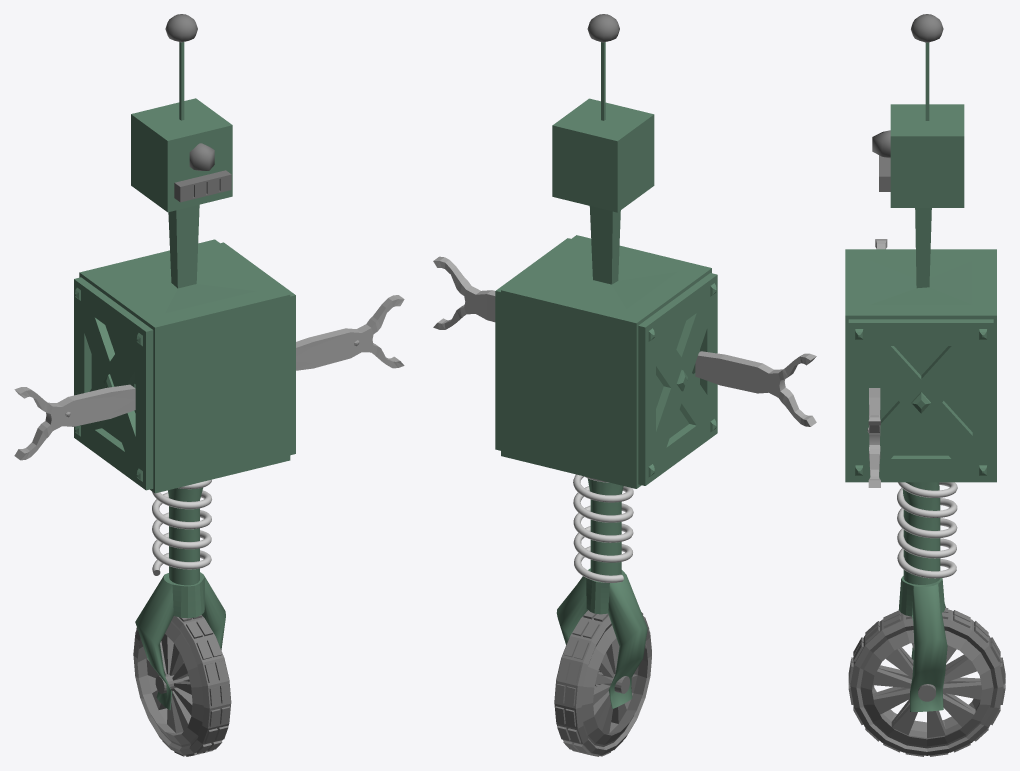
The model's file is robot principal.FBX.
3 views of the same model, side by side, from view 1: azimuth 30°, elevation 25°; view 2: azimuth 150°, elevation 25°; view 3: azimuth 270°, elevation 25° (orthographic).
Visible parts, largest first — view 1: Sphere01, Object001, brazo 02, brazo 1; view 2: Sphere01, Object001, brazo 02, brazo 1; view 3: Sphere01, Object001, brazo 1.
Part boxes in pixels (x1,y1,x2,y2): Sphere01: (74, 14, 295, 709); Object001: (133, 615, 231, 756); brazo 02: (14, 384, 135, 460); brazo 1: (296, 295, 404, 370); Sphere01: (495, 14, 717, 708); Object001: (554, 610, 651, 756); brazo 02: (695, 351, 816, 426); brazo 1: (433, 256, 495, 329); Sphere01: (845, 14, 996, 711); Object001: (848, 607, 1005, 756); brazo 1: (867, 388, 880, 487).
Bounding box in the file's own units: 75.89 × 140 × 27.53.
